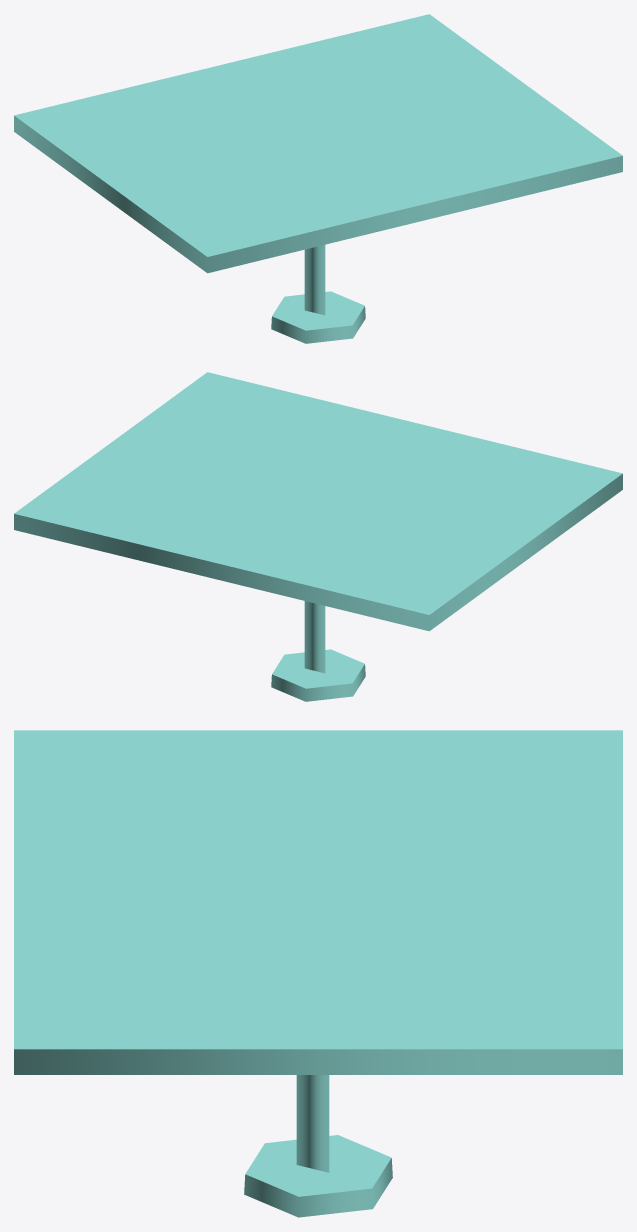
Rendered from DinerTable_Collision.fbx.
3 views of the same model, one above another, from view 1: azimuth 30°, elevation 25°; view 2: azimuth 150°, elevation 25°; view 3: azimuth 270°, elevation 25° (orthographic). The views are drawn at different scales.
Visible parts, largest first — view 1: DinerTable_Collision; view 2: DinerTable_Collision; view 3: DinerTable_Collision.
Boxes of the visible parts, left/top/right/bottom form: DinerTable_Collision: left=14, top=14, right=622, bottom=343; DinerTable_Collision: left=14, top=372, right=622, bottom=701; DinerTable_Collision: left=14, top=730, right=622, bottom=1217.
Size of the model in its own units: 1.74 by 0.7541 by 1.4.
